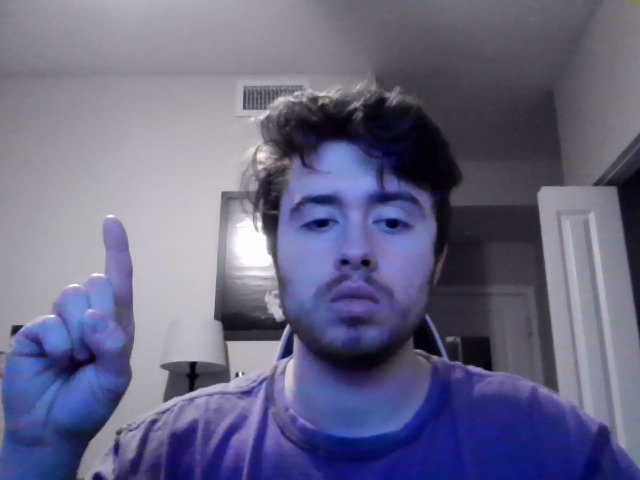d: (3, 214, 137, 456)
